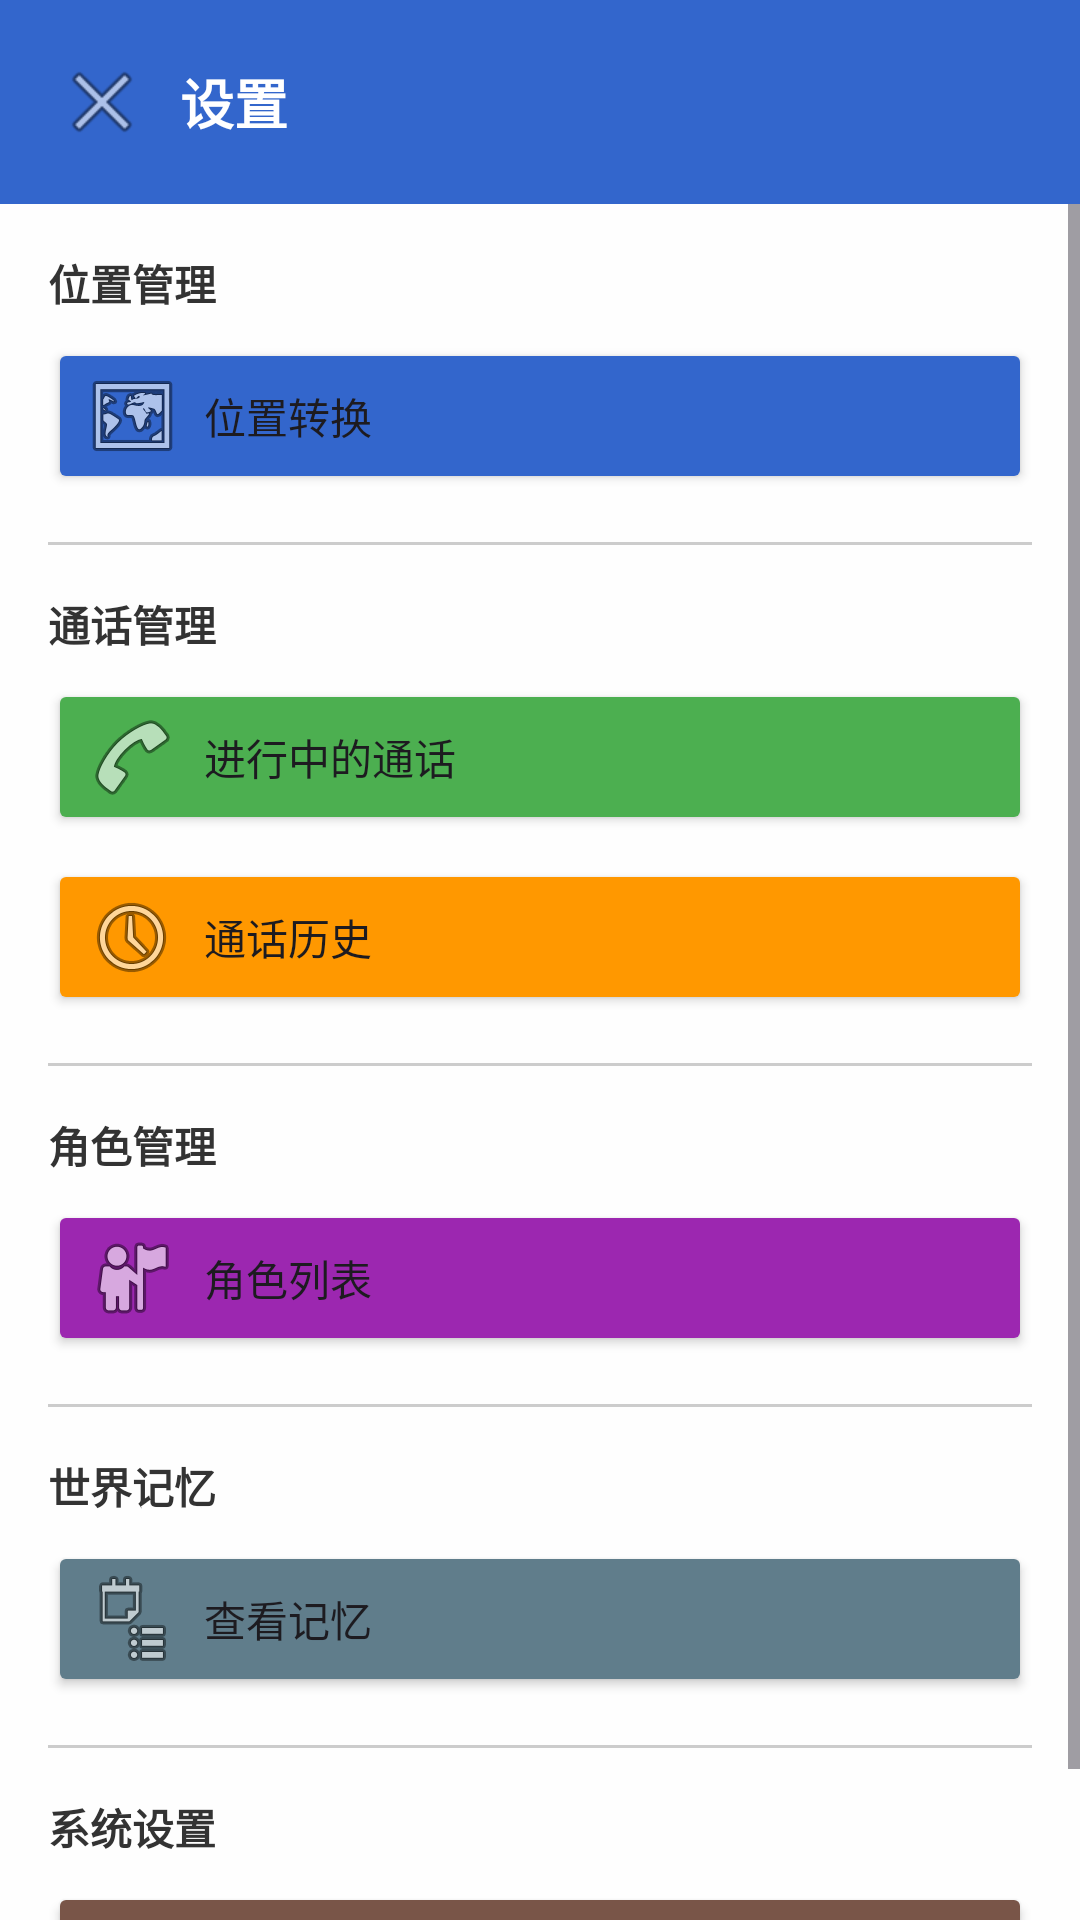

Where to tap for icons on this 1080px×1920px app screen, as [x,y]:
关闭: [102,102]
